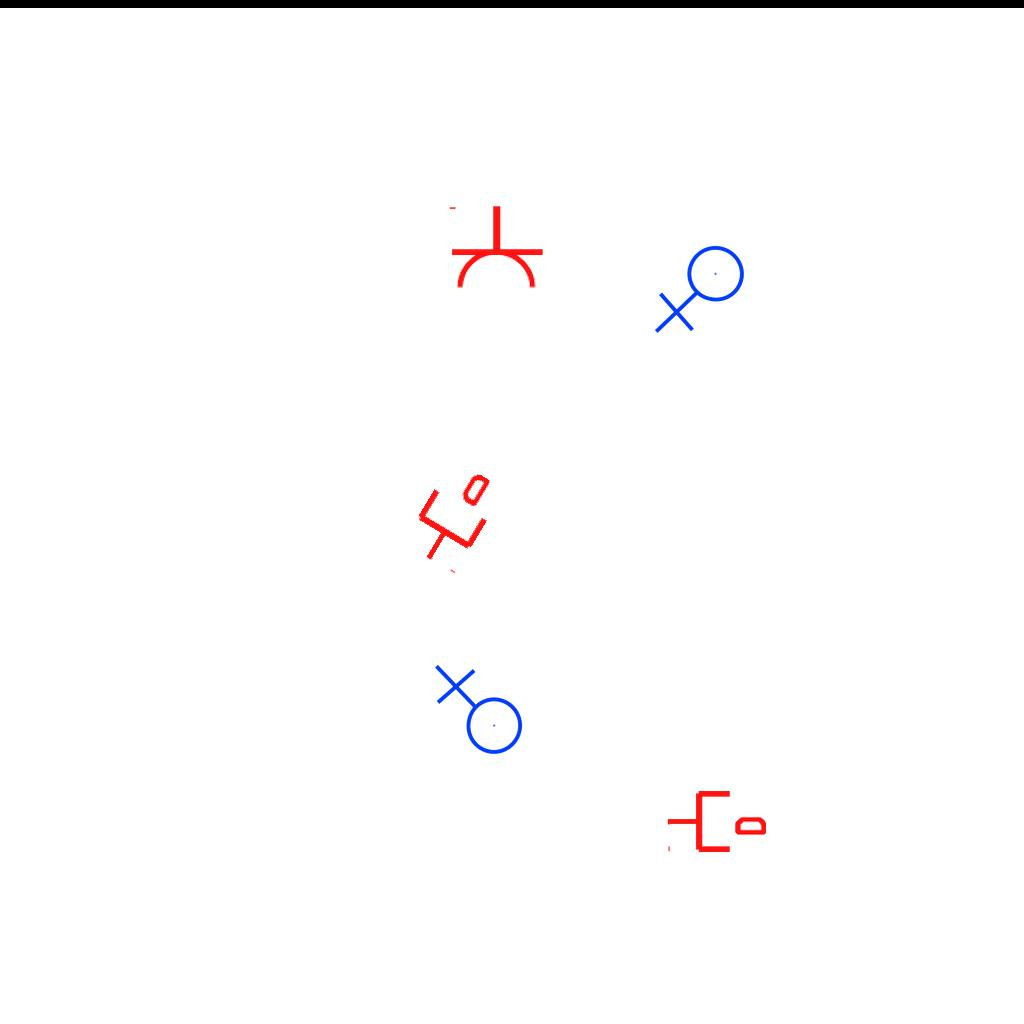Datenanschluss_einfach: (398, 456, 509, 578), (666, 787, 766, 856)
Elektroanschluss_allgemein_230V_Geraeteanschlussdose_230V: (430, 664, 524, 763), (654, 244, 753, 338)
Schukosteckdose_einfach: (445, 204, 545, 291)
